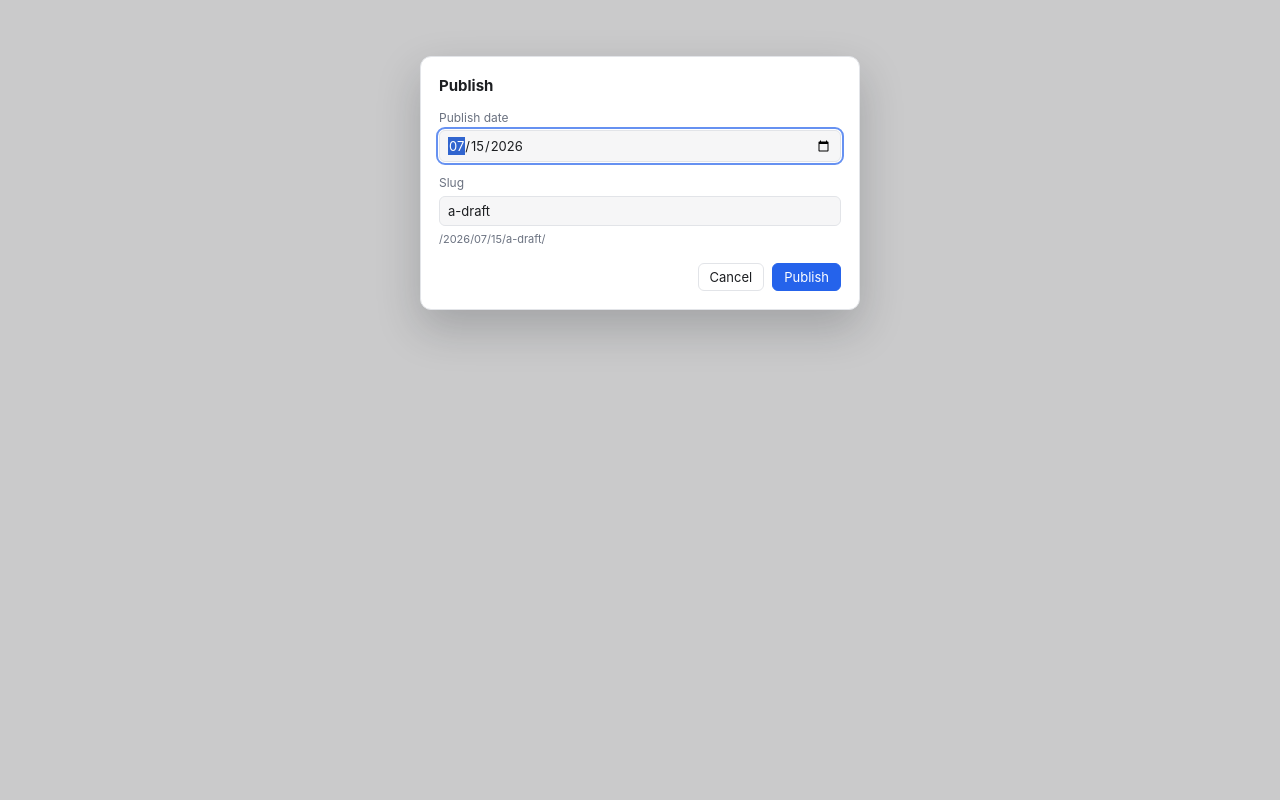
PublishDialog — live URL preview › updates the preview as the date field changes
The width and height of the screenshot is (1280, 800).
Type "2026-08-01" into the date field labelled "Publish date". click: {"x": 640, "y": 146}
box: x1=439 y1=130 x2=841 y2=162
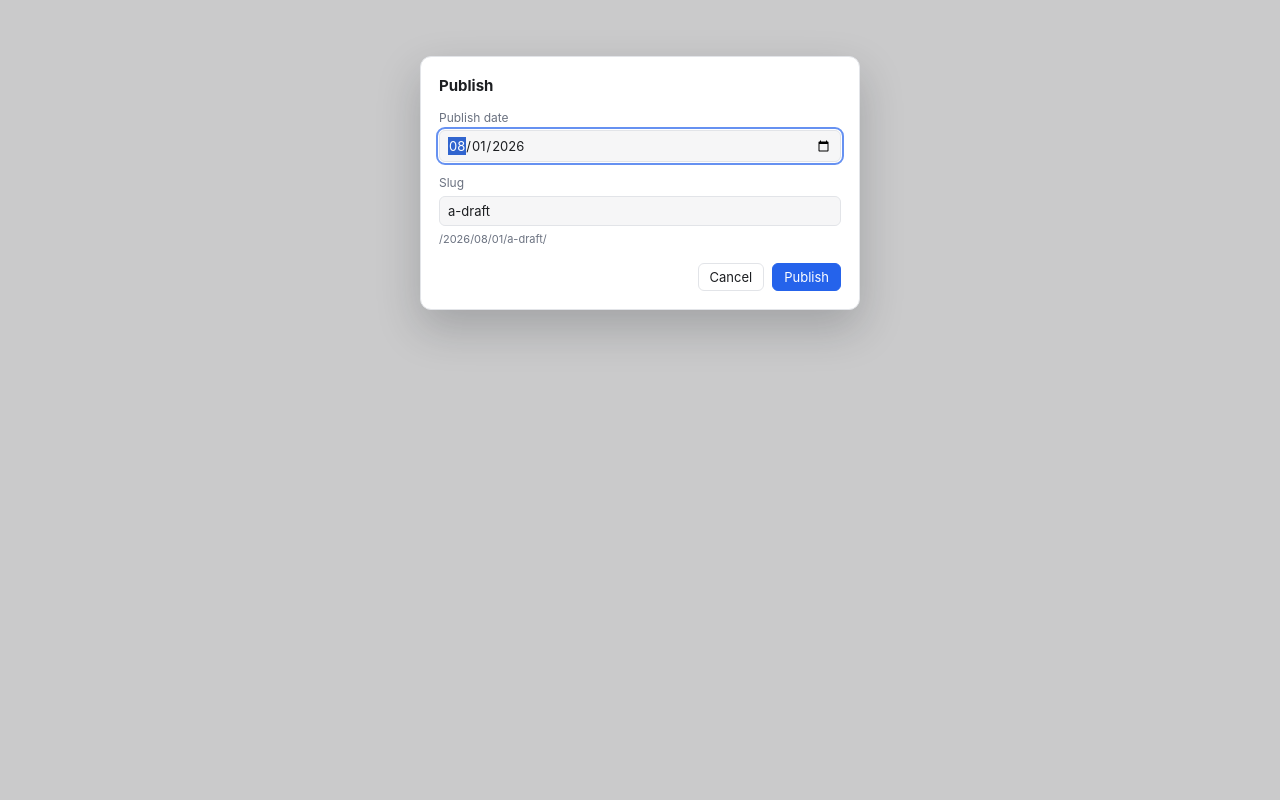
Result: the text "/2026/08/01/a-draft/" is shown at x1=439 y1=232 x2=547 y2=246
